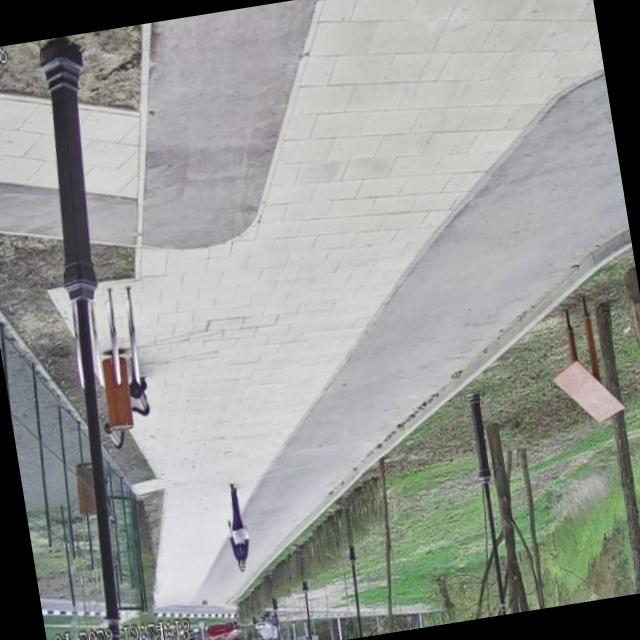person: (221, 481, 256, 578)
